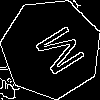M: (26, 23, 87, 83)
